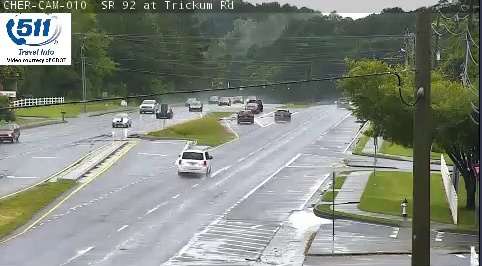car: (178, 150, 211, 173), (275, 110, 292, 123), (237, 110, 253, 123)
